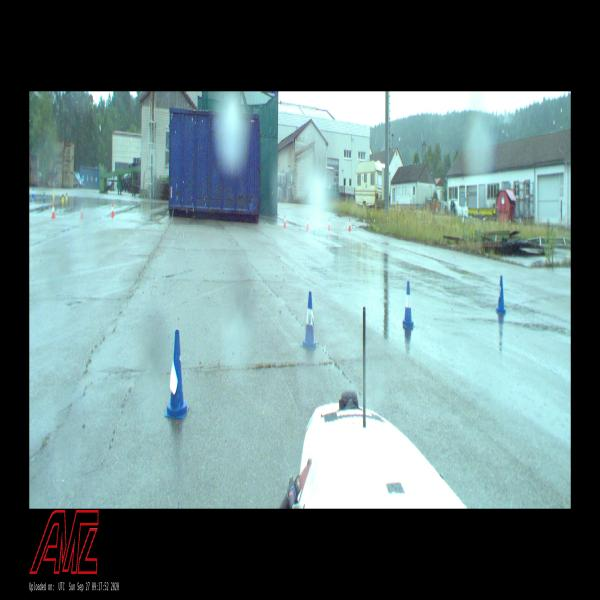blue_cone: (164, 330, 189, 419), (302, 292, 318, 350), (402, 282, 415, 326), (496, 276, 505, 313), (43, 192, 45, 202), (32, 188, 34, 197)
orange_cone: (52, 204, 55, 219), (111, 203, 114, 216), (283, 215, 286, 228), (348, 219, 351, 231), (81, 205, 83, 218), (307, 217, 309, 229), (328, 218, 330, 230)
yellow_cone: (66, 189, 68, 200), (53, 188, 55, 198), (62, 192, 63, 202)
